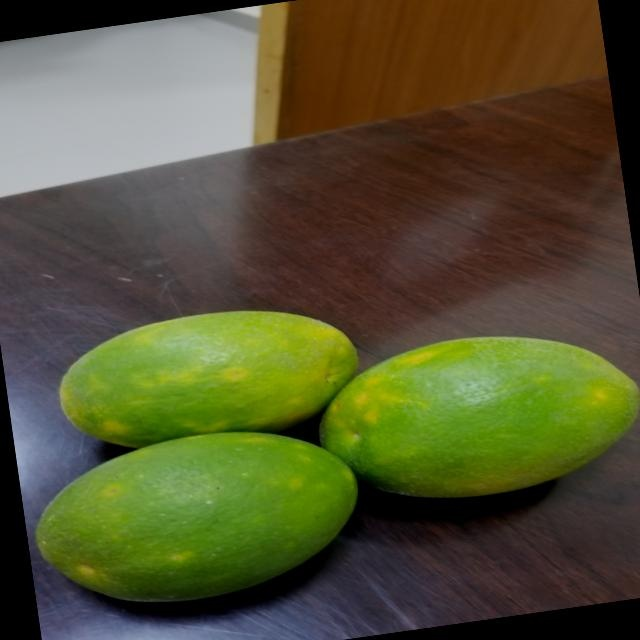agrume: (27, 414, 387, 634), (301, 302, 640, 523), (42, 288, 374, 466)
